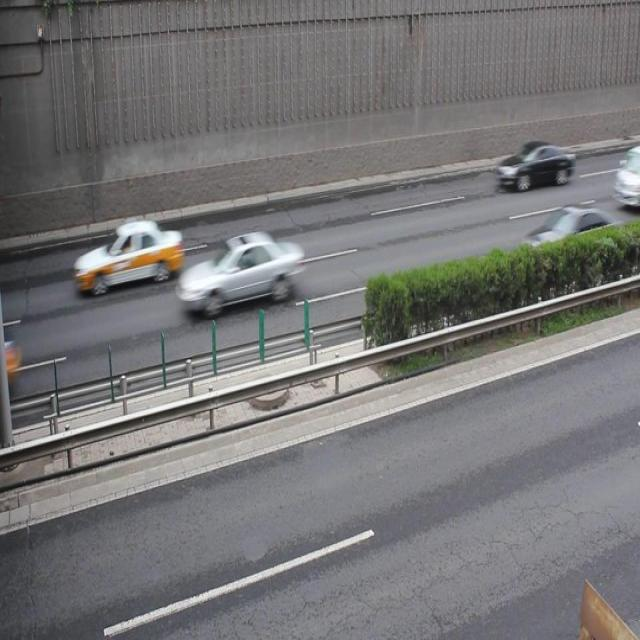car: (176, 231, 303, 314), (74, 219, 184, 293), (516, 204, 615, 272), (494, 140, 574, 192)
